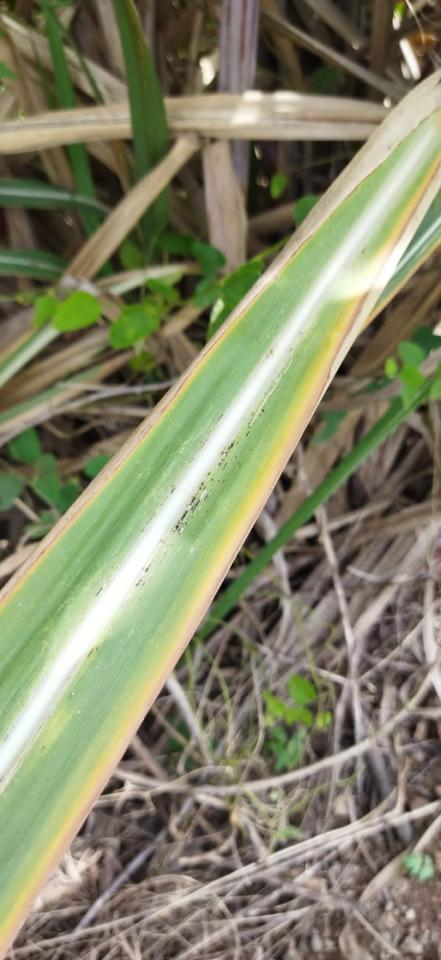Rust: (171, 404, 268, 537), (181, 413, 226, 472), (140, 485, 179, 534), (134, 561, 156, 593)
Yellow: (0, 290, 371, 950), (0, 235, 314, 617), (369, 150, 441, 264)
